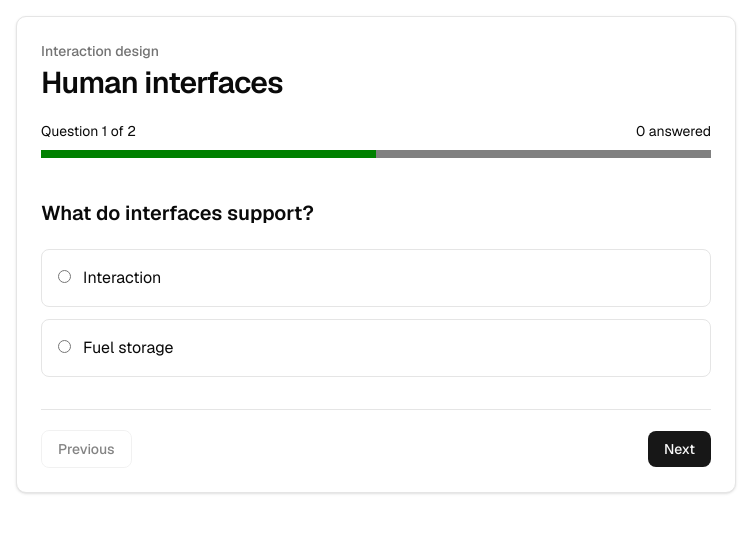
Test: QuizPlayer › submits stable IDs once, disables duplicate actions, and renders neutral completion
Check: the text "What do interfaces support?" is shown, box [41,197,314,229]
Click the radio button labelled "Interaction".
click(64, 276)  # box [58,270,71,283]
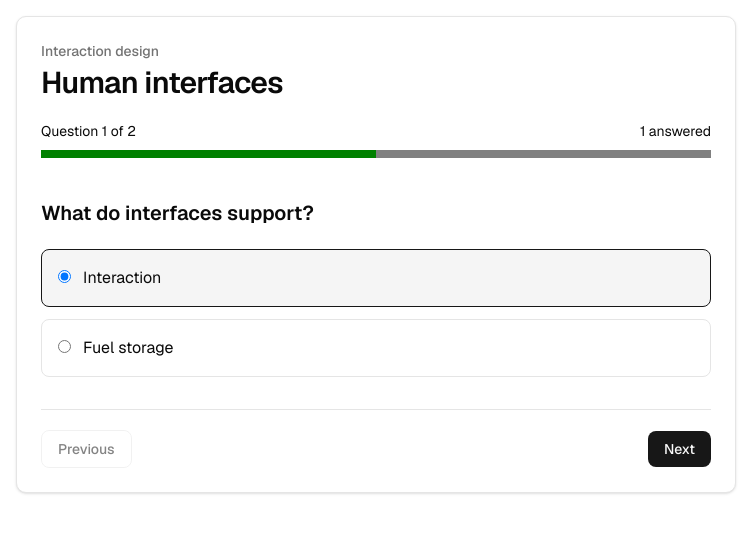
Click the button "Next".
click(679, 449)  # box [648,431,711,467]
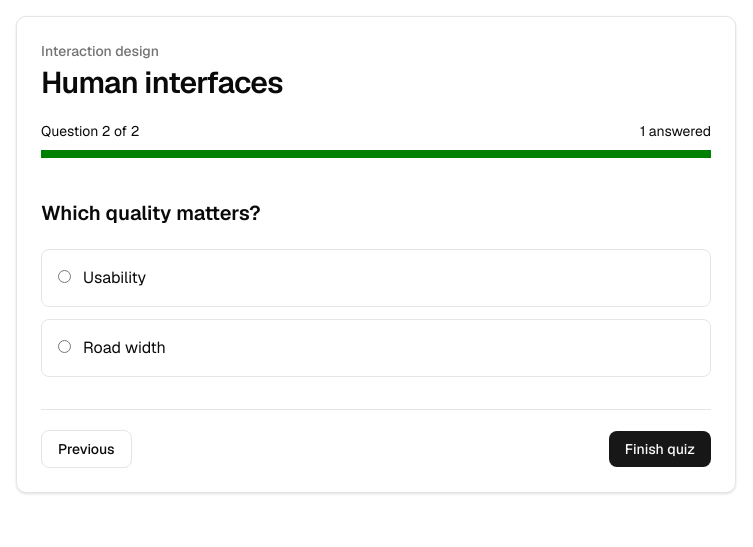
Click the radio button labelled "Road width".
click(64, 346)  # box [58,340,71,353]
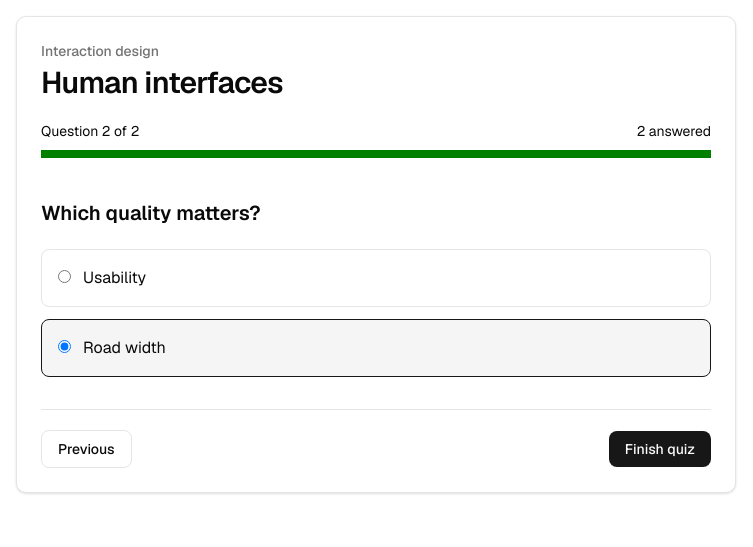
Click the button "Finish quiz".
click(660, 449)  # box [609,431,711,467]
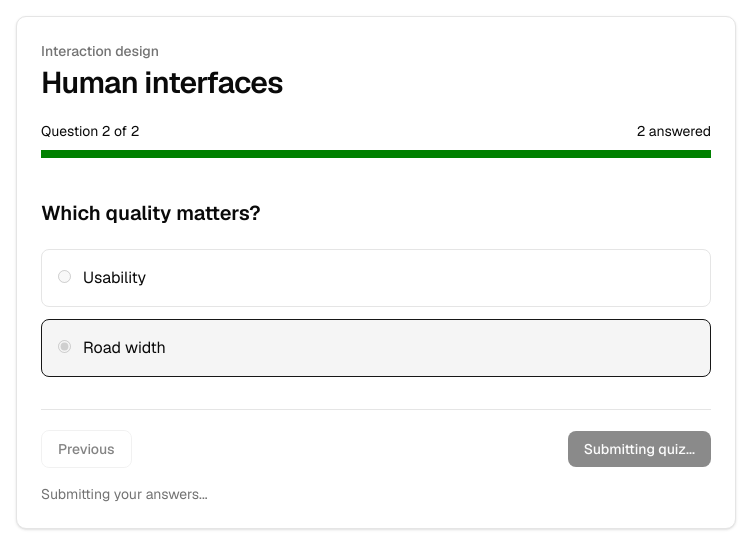
Check: the button "Submitting quiz..." is disabled
Check: the message shows "Submitting your answers", box [41,485,208,503]
Click the button "Submitting quiz...".
click(639, 449)  # box [568,431,711,467]
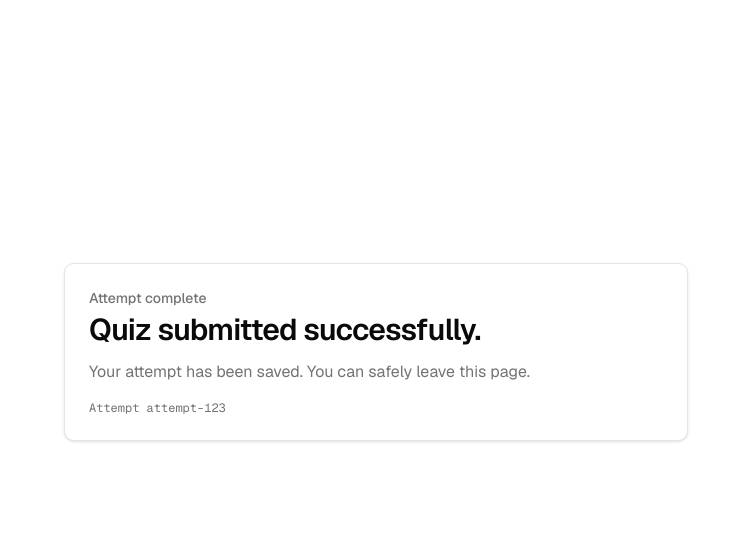
Check: the heading "Quiz submitted successfully." is shown, box [89,310,481,349]
Check: the radio button is gone
